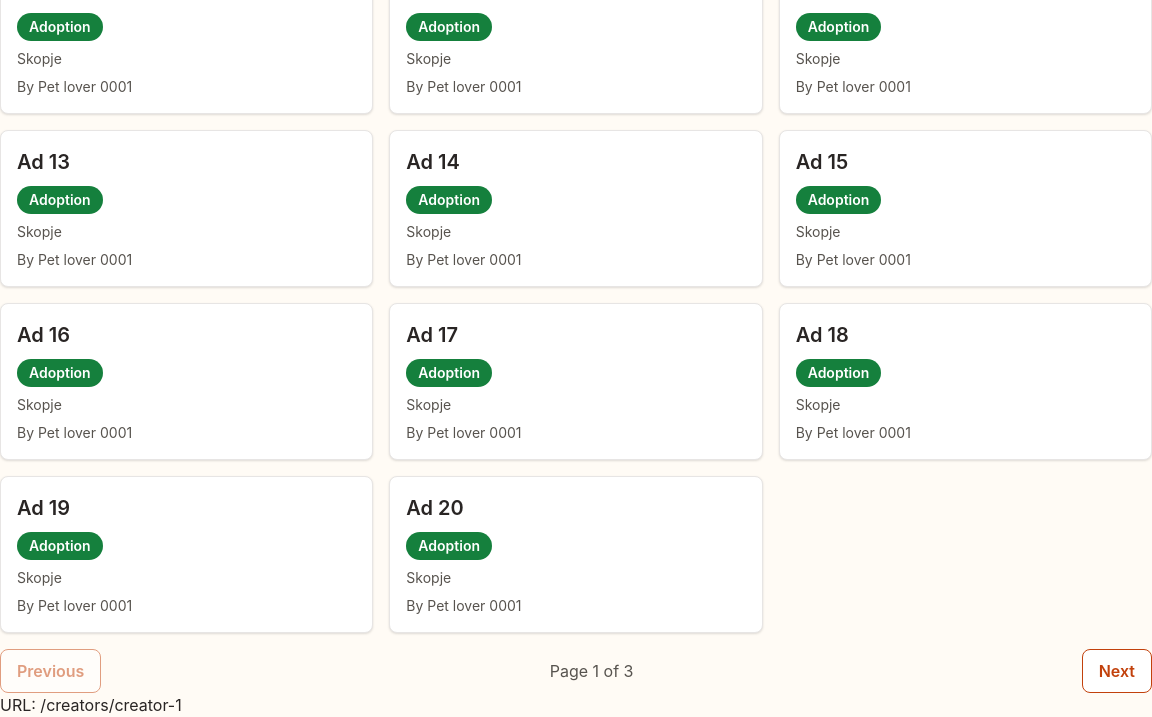
Test case: CreatorProfilePage › paging › moves focus to the Ads heading after Next
(page scrolled)
Click the button "Next": (1117, 671) [1082, 649, 1151, 693]
(page scrolled)
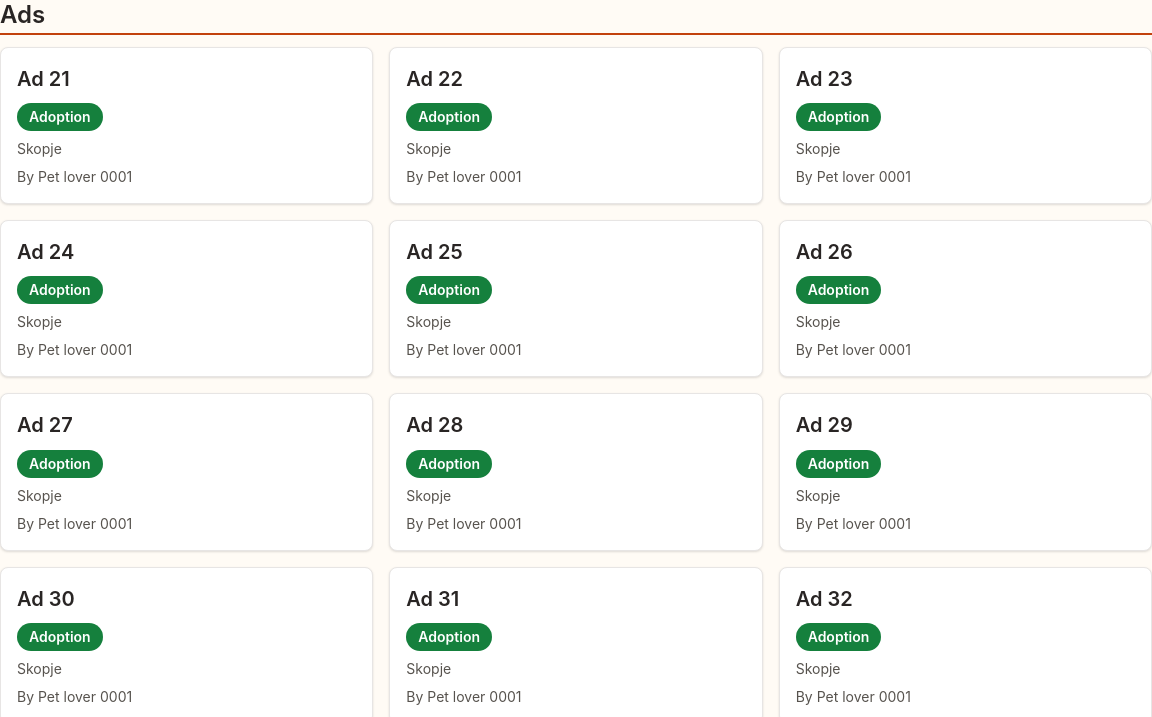
Check: the heading "Ad 21" is shown, box [17, 67, 70, 91]
